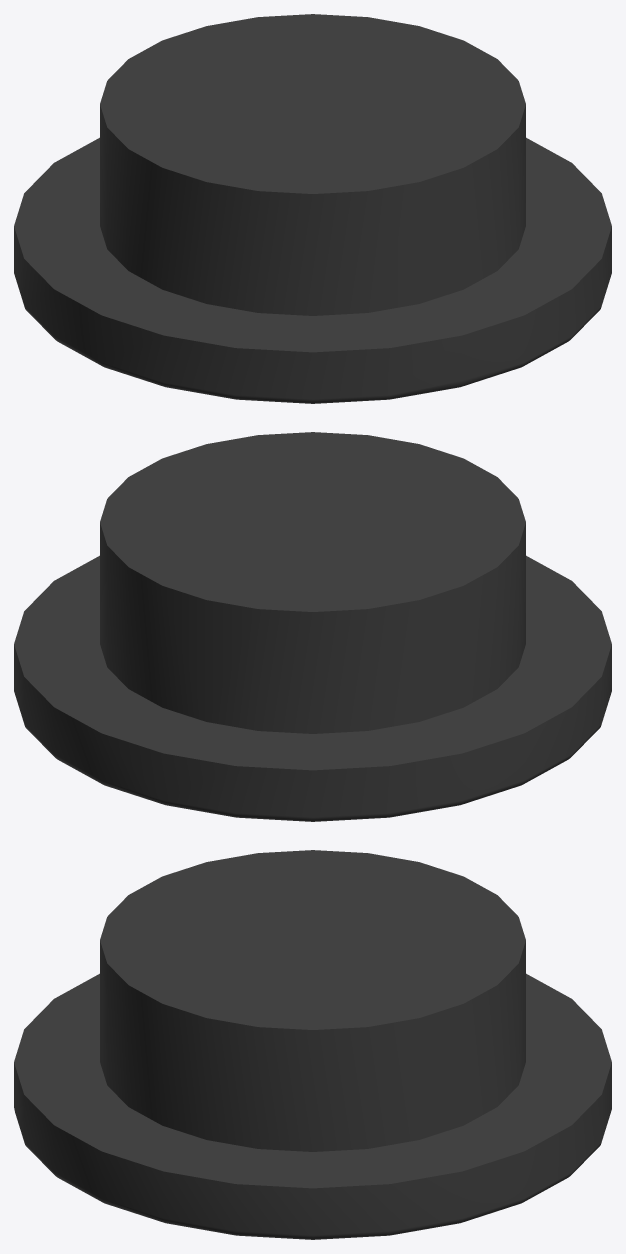
The model's file is UNIB1501004.glb.
The picture shows the model from 3 angles, top to bottom: view 1: azimuth 30°, elevation 25°; view 2: azimuth 150°, elevation 25°; view 3: azimuth 270°, elevation 25°; orthographic projection.
Visible parts, largest first — view 1: Body__0; view 2: Body__0; view 3: Body__0.
Part boxes in pixels (left/top/right/bottom): Body__0: left=14, top=14, right=611, bottom=403; Body__0: left=14, top=432, right=611, bottom=821; Body__0: left=14, top=850, right=611, bottom=1239.
Size of the model in its own units: 0.08 by 0.026 by 0.08.
1 material, 1 textured.
